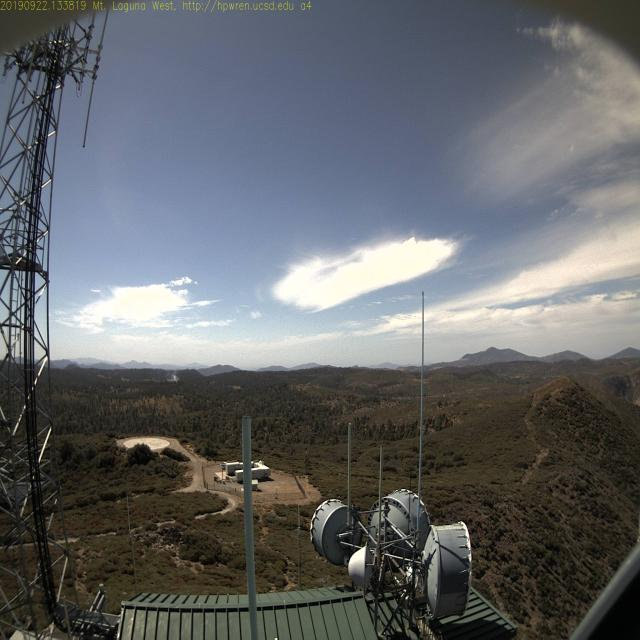smoke: (156, 361, 182, 387)
